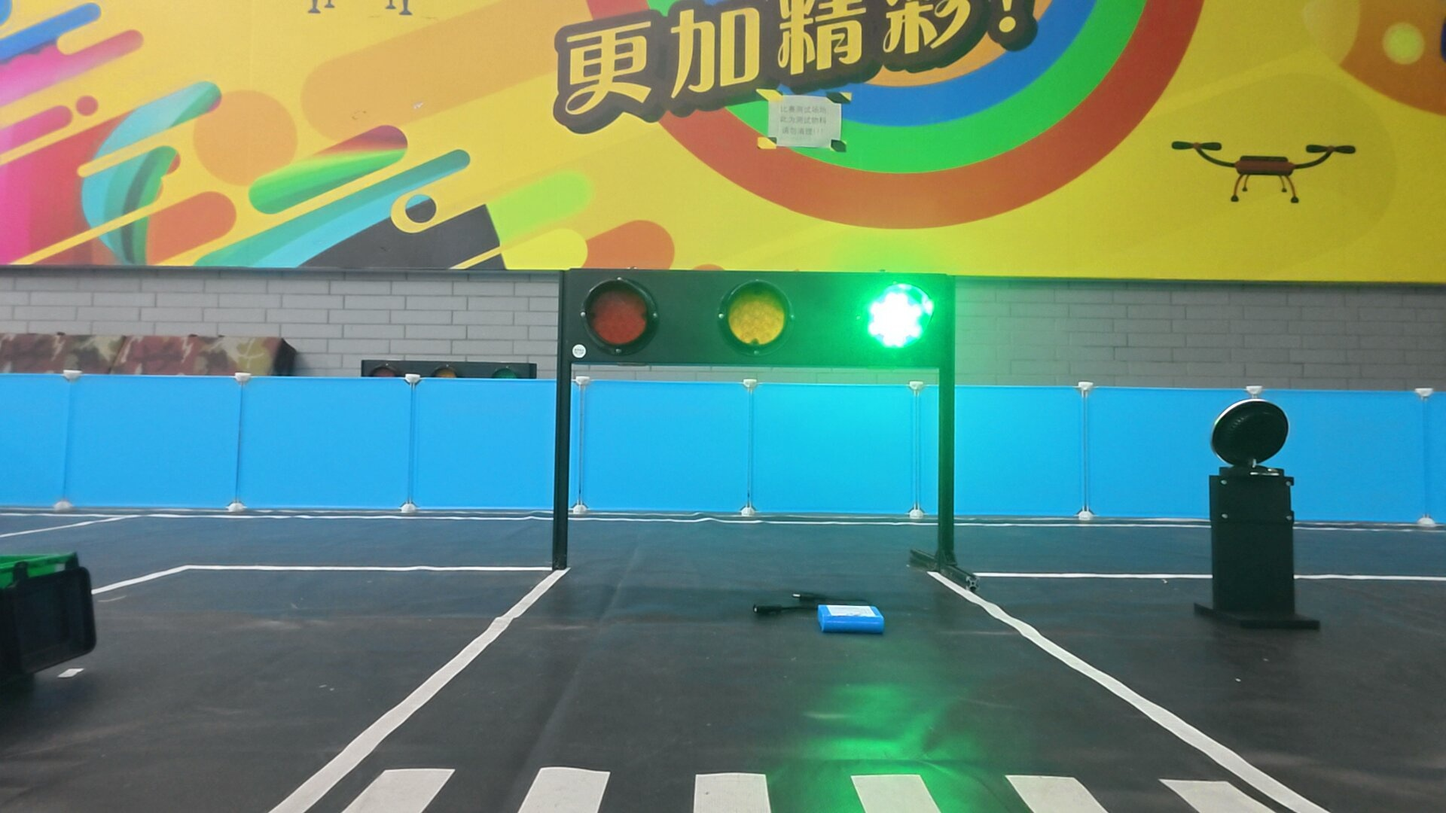go: (861, 280, 936, 357)
